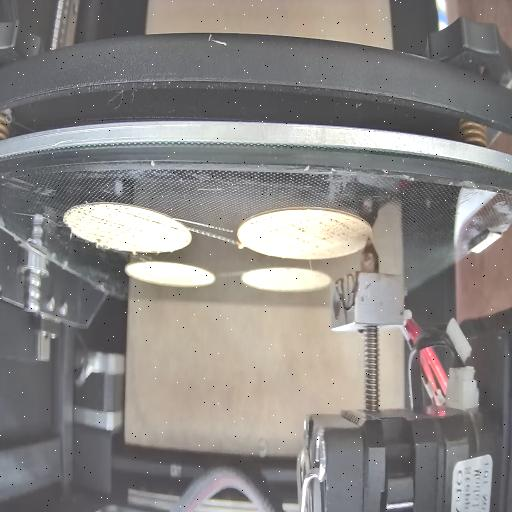under_extrusion: (250, 208, 368, 246), (66, 204, 168, 242), (170, 224, 189, 239)
